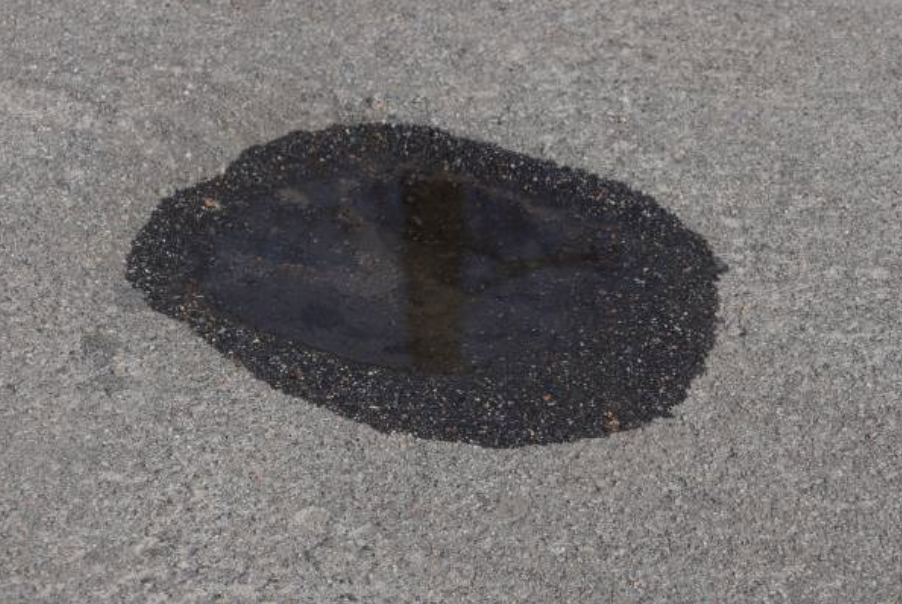oil: (62, 60, 360, 223)
